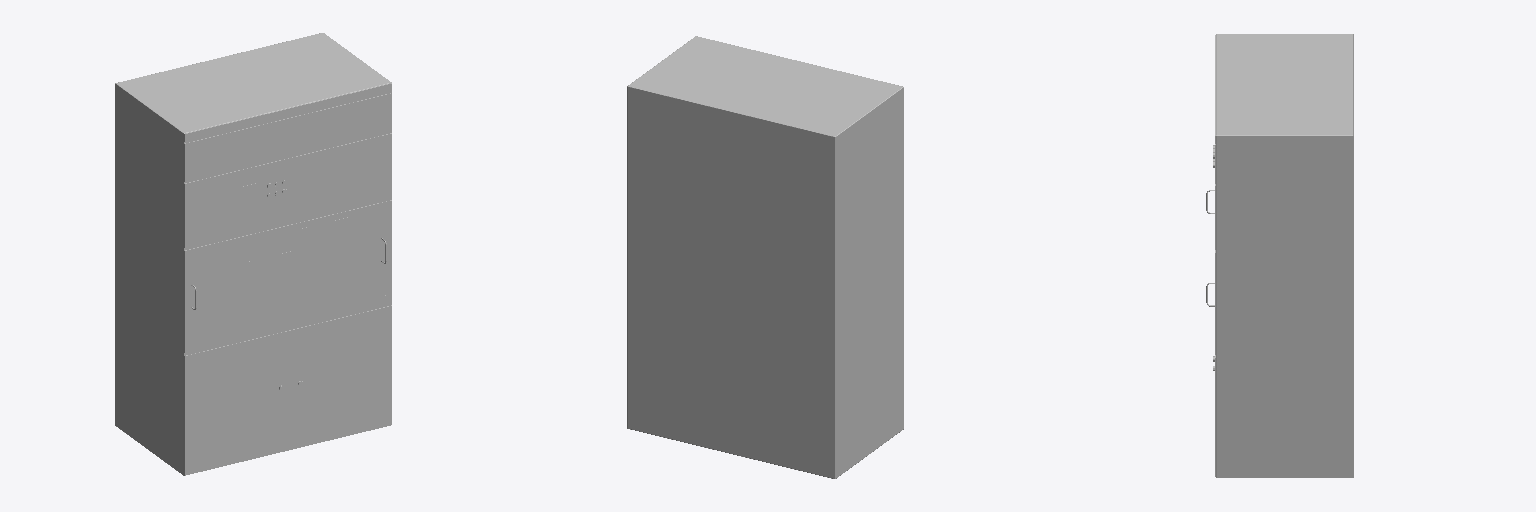
Rendered from diya140.obj.
3 views of the same model, side by side, from view 1: azimuth 30°, elevation 25°; view 2: azimuth 150°, elevation 25°; view 3: azimuth 270°, elevation 25° (orthographic).
Parts seen in each view (by area): view 1: ChamferBox58; view 2: ChamferBox58; view 3: ChamferBox58.
Part boxes in pixels (x1,y1,x2,y2): ChamferBox58: (115,33,391,475); ChamferBox58: (627,36,903,478); ChamferBox58: (1206,34,1353,477).
Bounding box in the file's own units: 140 × 220 × 85.59.